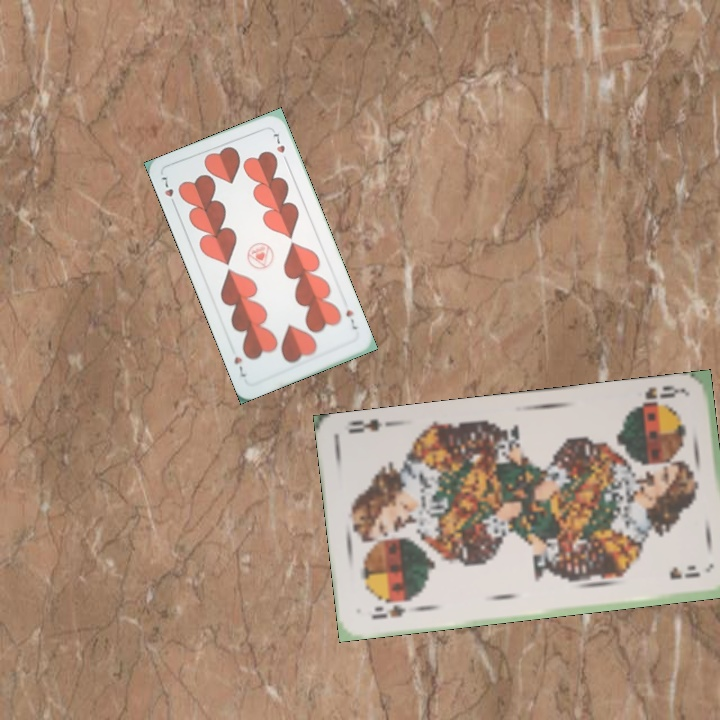H7: (157, 173, 179, 210), (342, 306, 360, 332)
SO: (629, 381, 687, 412), (368, 601, 408, 622)
